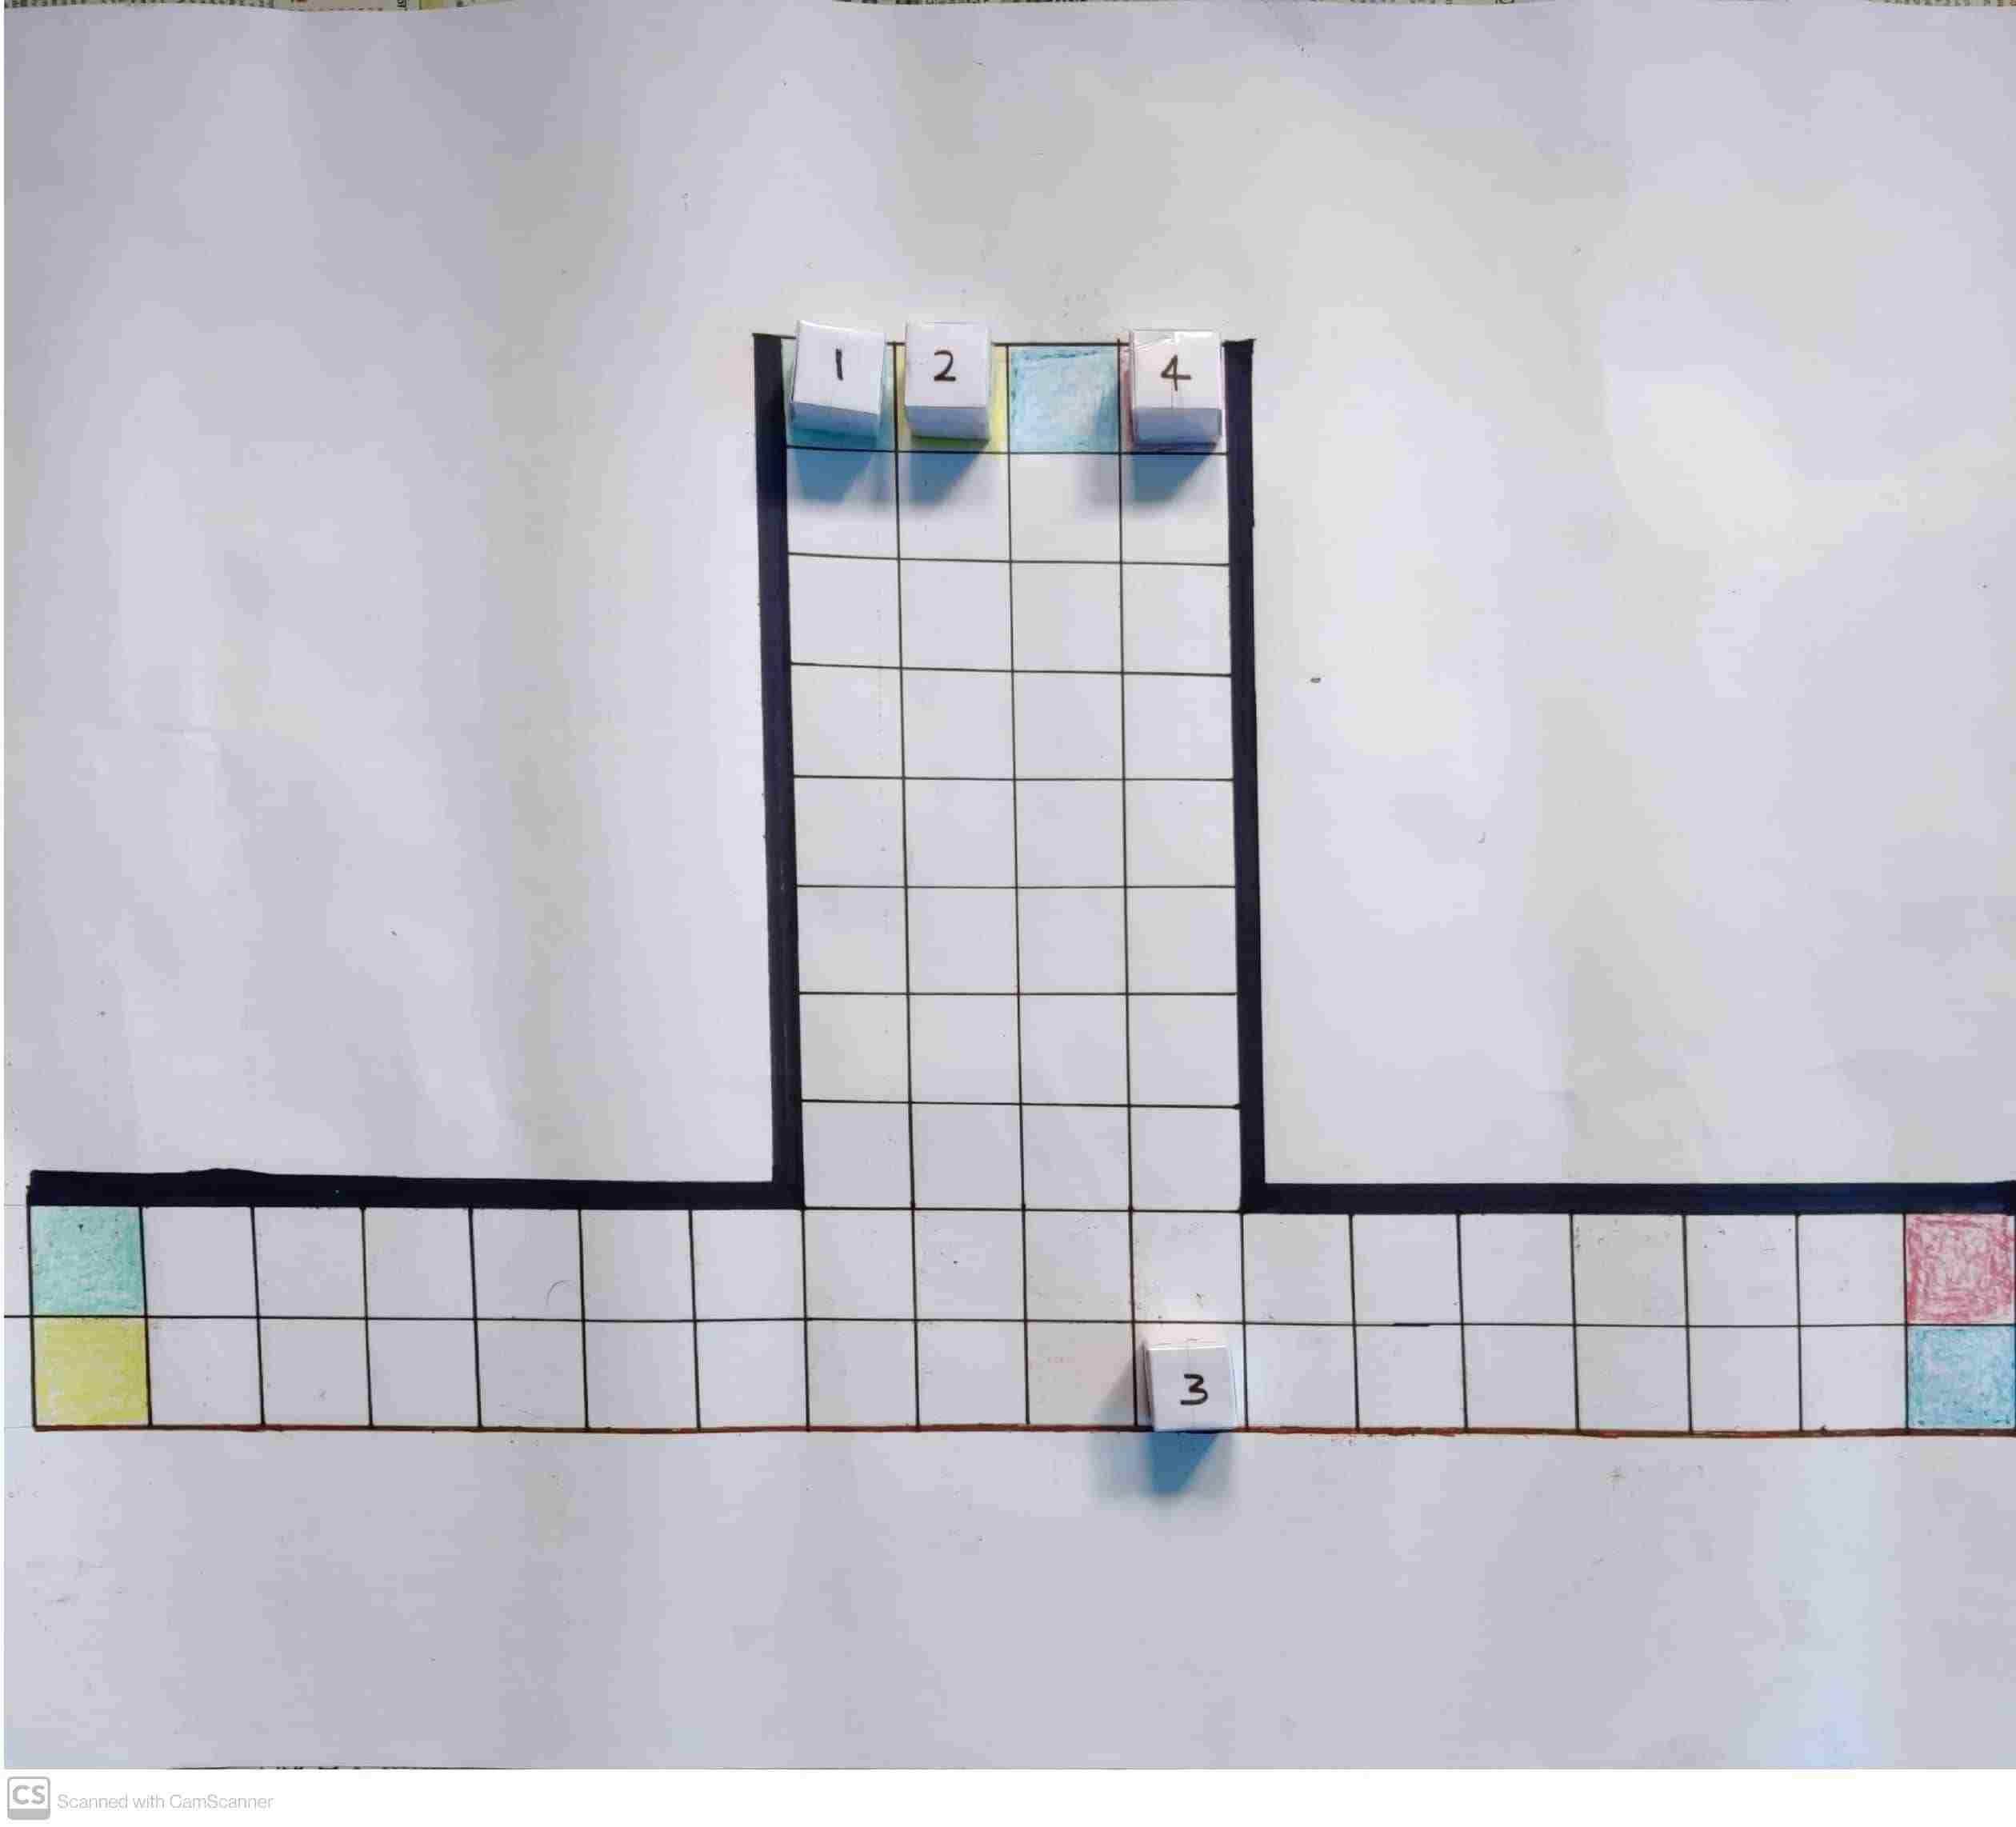arena: (28, 336, 2016, 1428)
bot: (792, 327, 882, 409), (1152, 1346, 1233, 1433), (904, 332, 989, 409), (1133, 339, 1215, 409)
